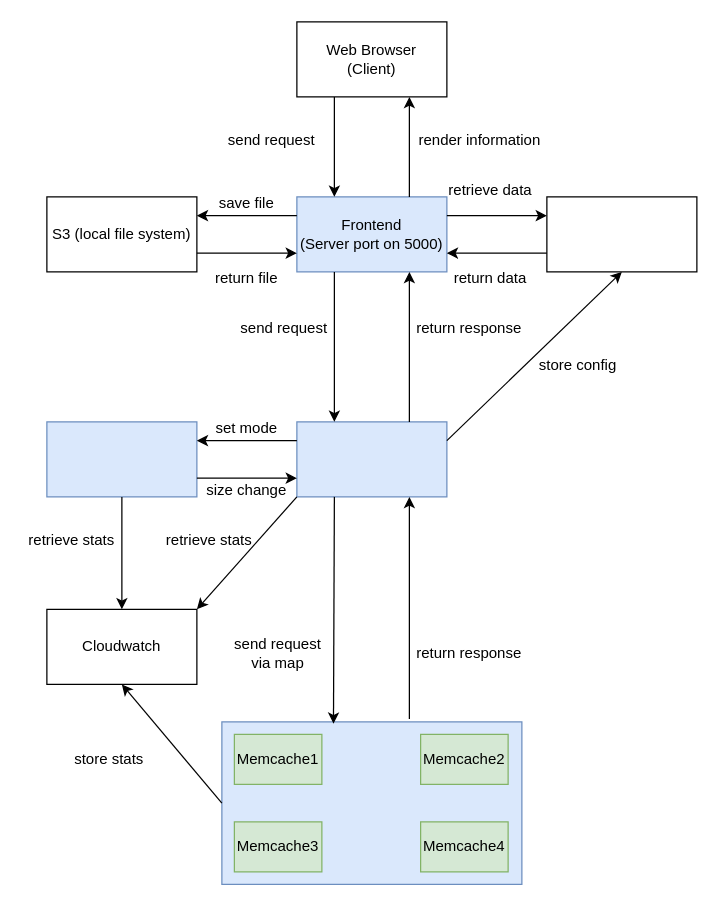
Some shapes in this 719 by 906 pixel diagram are drawn without their labels. Each missing label, with the box of its shape:
Autoscaler (Server port on 5003): (46, 421, 197, 497)
Manager app (Server port on 5002): (296, 421, 447, 497)
Memcache (Server port on 5001): (221, 721, 522, 884)
RDS (database): (546, 196, 697, 272)
